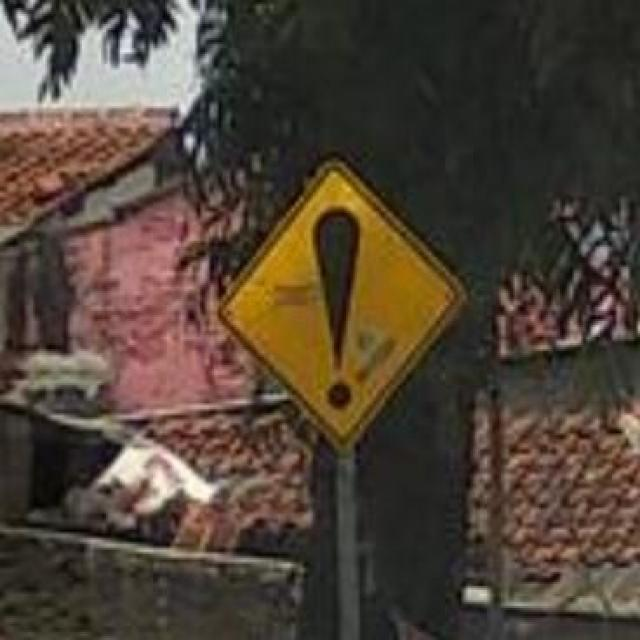traffic sign: (219, 157, 464, 446)
